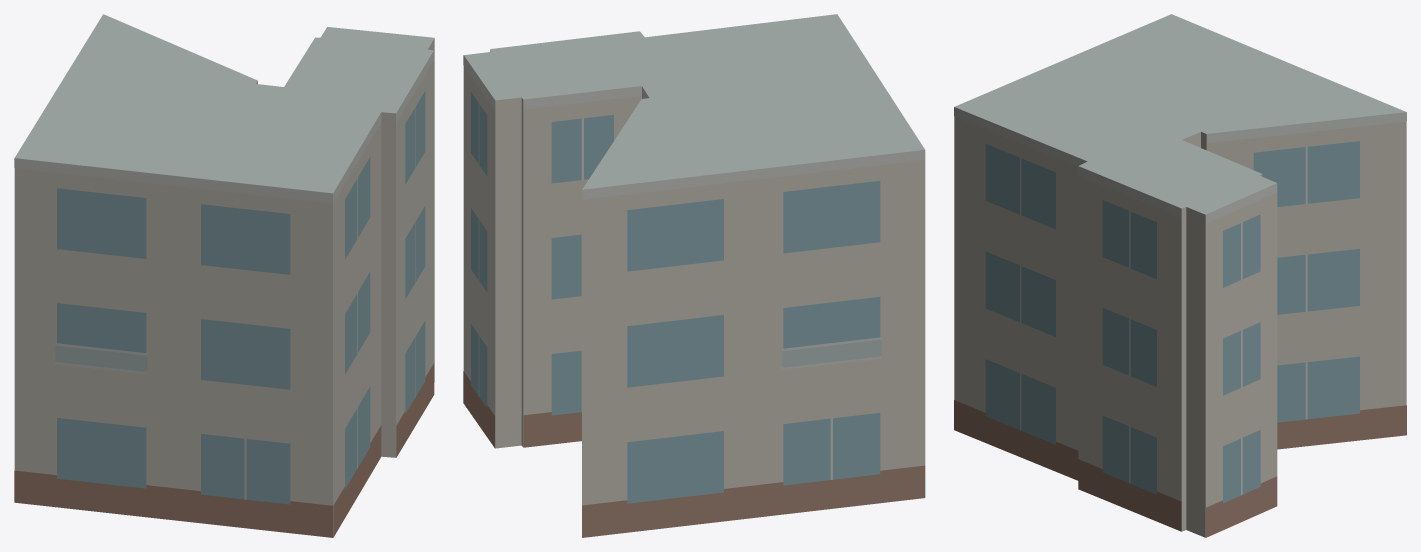
The model's file is survey-upis-32838435.glb.
The picture shows the model from 3 angles, left to right: view 1: azimuth 30°, elevation 25°; view 2: azimuth 150°, elevation 25°; view 3: azimuth 270°, elevation 25°; orthographic projection. The views are drawn at different scales.
Parts seen in each view (by area): view 1: survey-upis-32838435.tmp; view 2: survey-upis-32838435.tmp; view 3: survey-upis-32838435.tmp.
Part boxes in pixels (x1,y1,x2,y2): survey-upis-32838435.tmp: (14, 14, 434, 537); survey-upis-32838435.tmp: (463, 14, 925, 537); survey-upis-32838435.tmp: (954, 14, 1406, 537).
Bounding box in the file's own units: 11.2 × 8.4 × 10.67.
